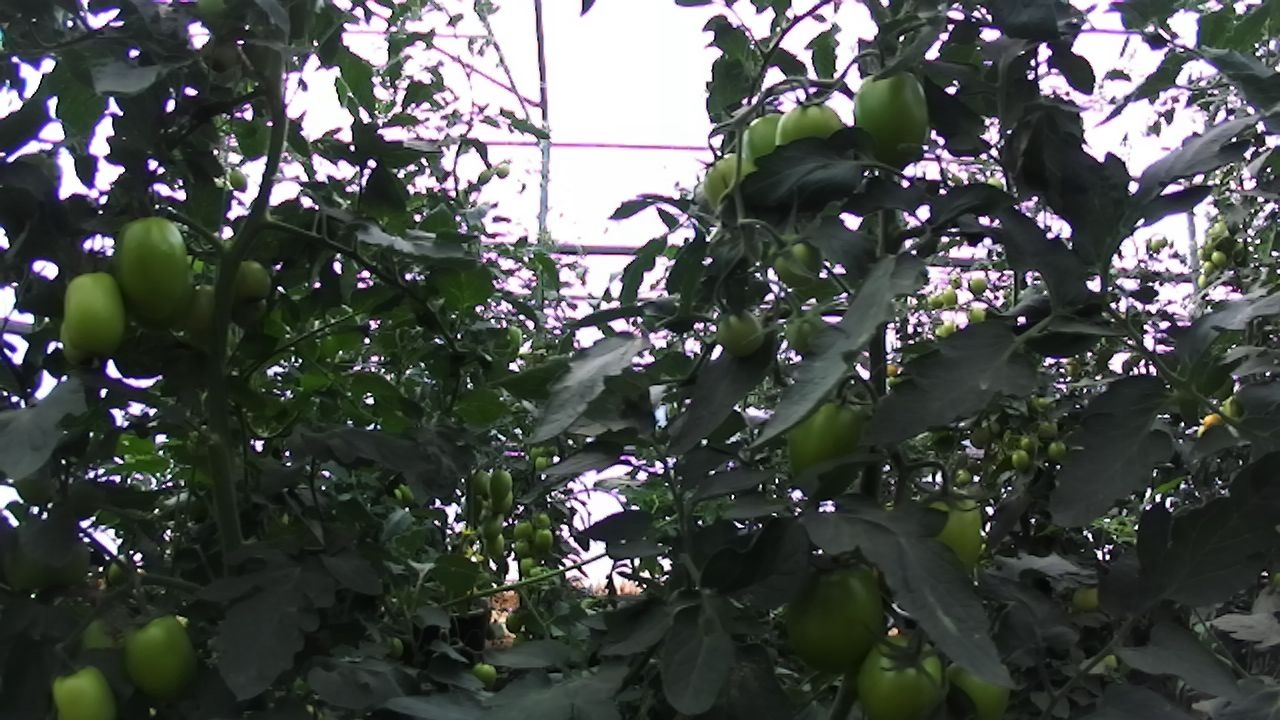tomato: (769, 534, 899, 686), (767, 381, 884, 513), (842, 55, 942, 186), (105, 201, 200, 336), (838, 616, 957, 720), (905, 474, 1001, 589), (766, 83, 861, 186), (116, 608, 207, 708), (922, 642, 1035, 720), (56, 265, 134, 365), (37, 649, 134, 720), (696, 146, 771, 228), (756, 221, 833, 299), (737, 99, 808, 181), (707, 296, 776, 366), (175, 274, 235, 351), (224, 248, 283, 309), (99, 545, 142, 595), (467, 653, 506, 696), (223, 153, 255, 203), (466, 463, 499, 503), (486, 461, 515, 506), (476, 508, 511, 543), (1195, 404, 1229, 437), (487, 484, 519, 516), (951, 461, 981, 494), (964, 423, 994, 453), (964, 270, 991, 300), (531, 524, 557, 555), (502, 607, 527, 638), (1043, 437, 1071, 464), (1008, 446, 1034, 475), (510, 516, 536, 545), (1036, 416, 1060, 447), (484, 529, 508, 560), (516, 552, 541, 580), (529, 506, 554, 534), (1015, 429, 1040, 456), (933, 316, 959, 341), (511, 534, 535, 559), (940, 285, 961, 313), (965, 304, 989, 328), (530, 453, 555, 473), (1197, 256, 1219, 277), (1208, 247, 1230, 268), (947, 271, 965, 292), (929, 290, 946, 312), (1194, 271, 1212, 290), (494, 162, 512, 180)
